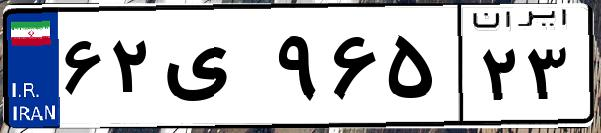2: (475, 38, 525, 113), (110, 28, 158, 98)
3: (525, 38, 570, 115)
5: (385, 28, 445, 110)
6: (330, 28, 385, 110), (57, 26, 110, 100)
9: (270, 28, 330, 110)
ی: (158, 20, 270, 120)
